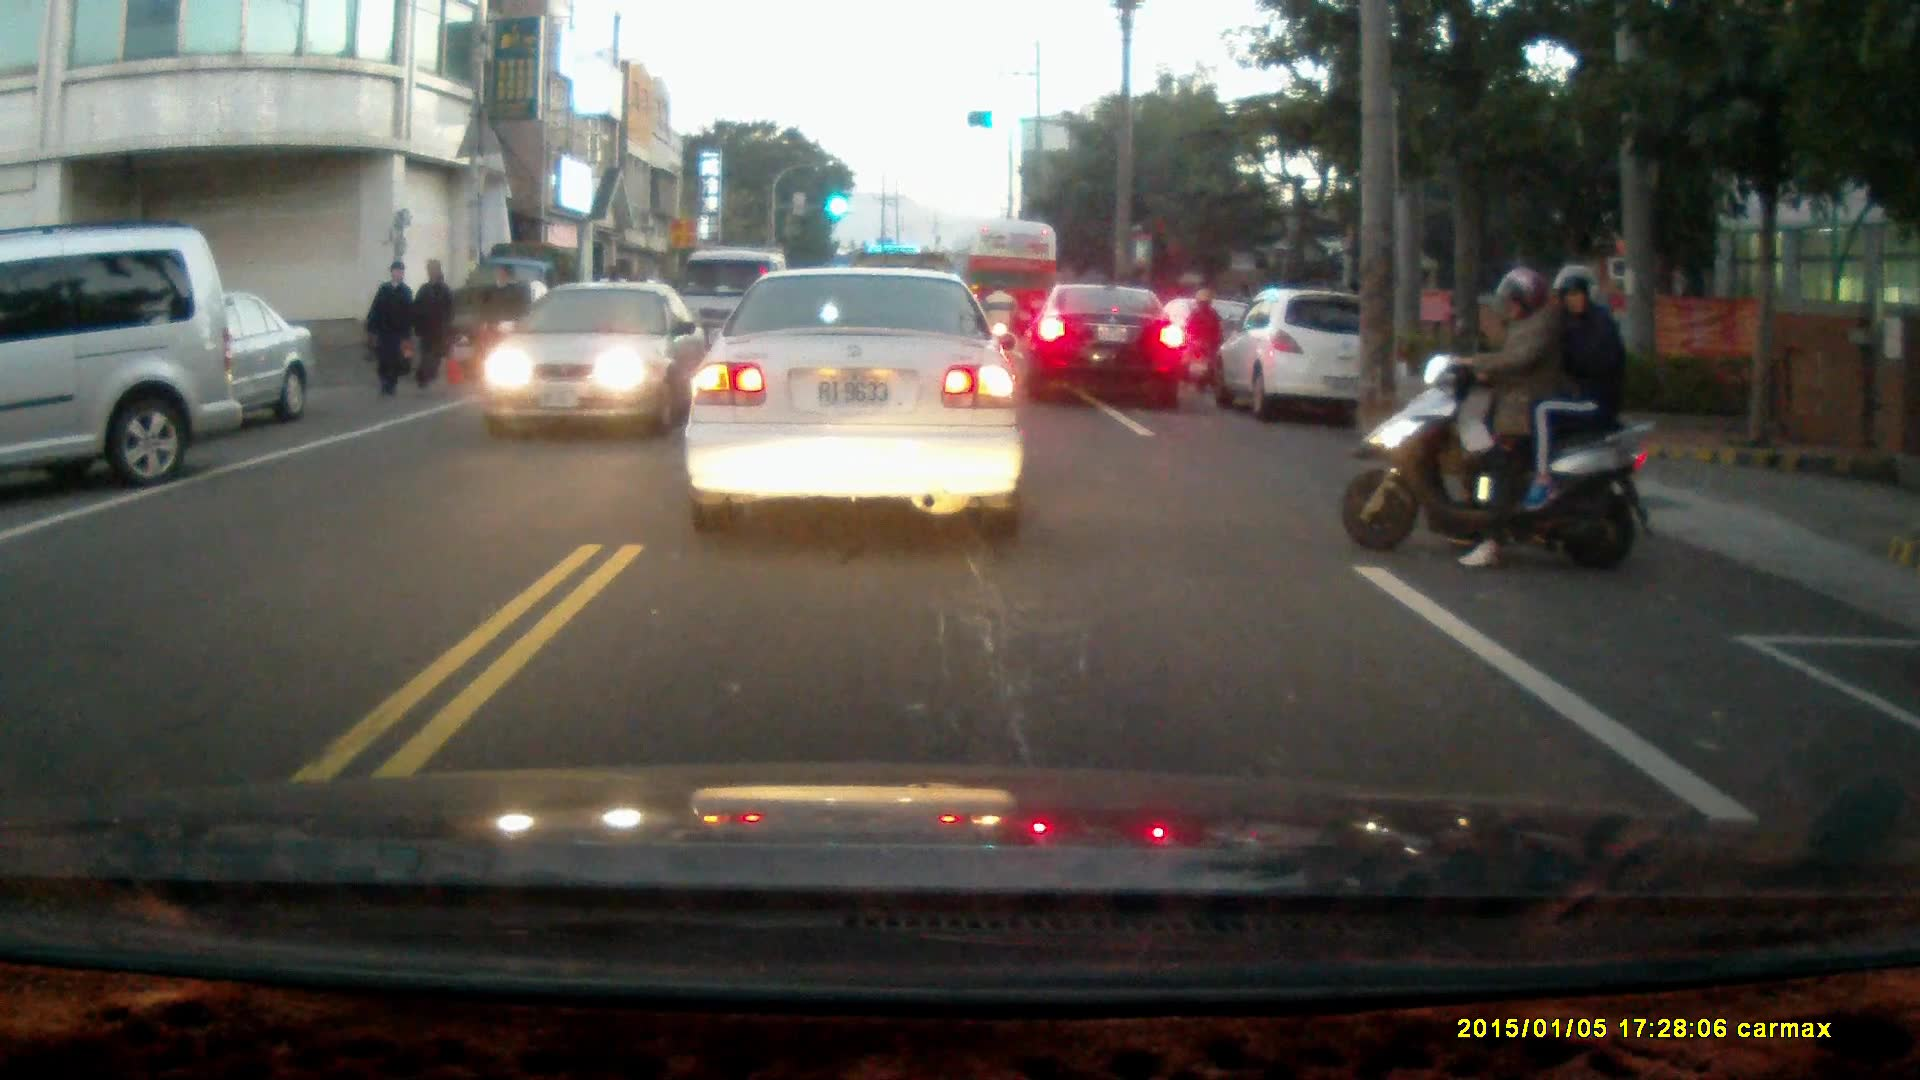pedestrian: (361, 257, 415, 403), (471, 263, 521, 384), (412, 257, 453, 391)
rider: (1340, 261, 1662, 576), (1180, 289, 1225, 396), (979, 282, 1019, 361)
vehicle: (683, 262, 1030, 538), (1, 222, 230, 499), (39, 288, 318, 430), (484, 283, 709, 446), (1214, 283, 1412, 425), (1023, 286, 1191, 410), (674, 247, 795, 373), (957, 216, 1061, 354)
